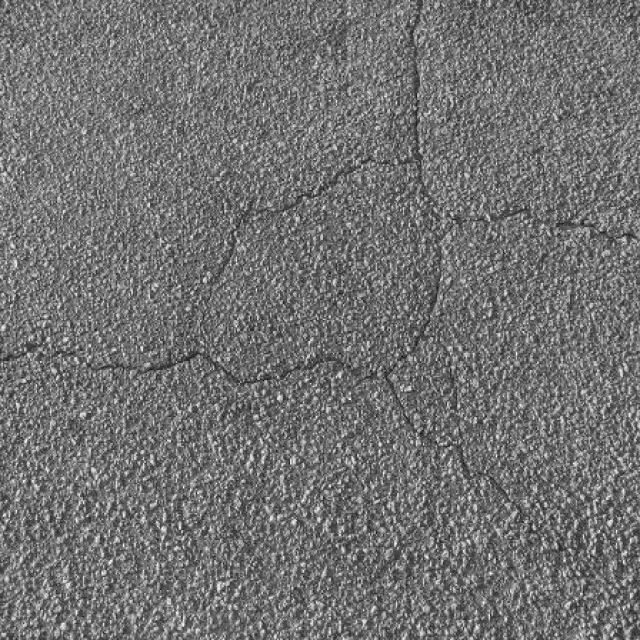Crack: (1, 2, 640, 532)
